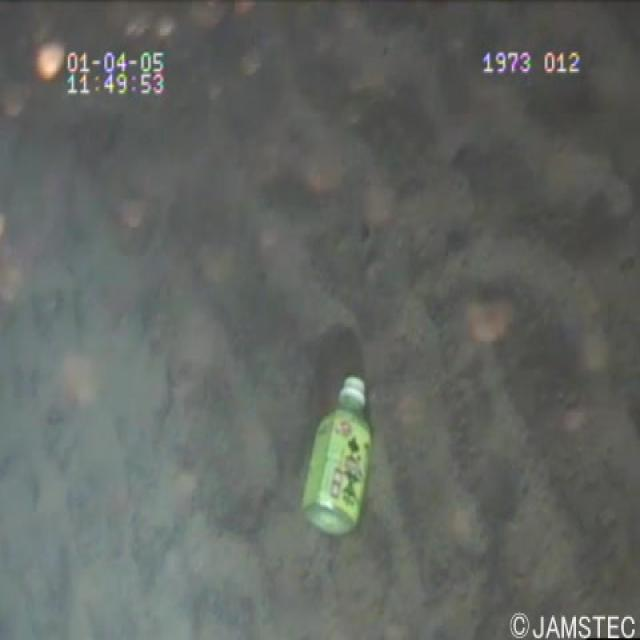plastic: (291, 364, 388, 544)
